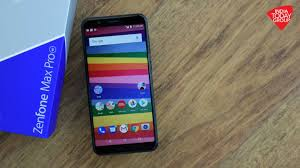asus: (79, 14, 161, 155)
